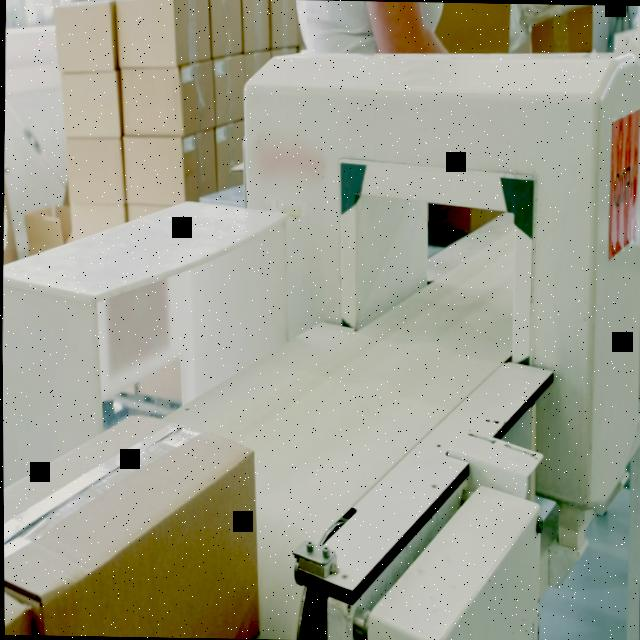box: (2, 411, 262, 639), (3, 586, 33, 634)
